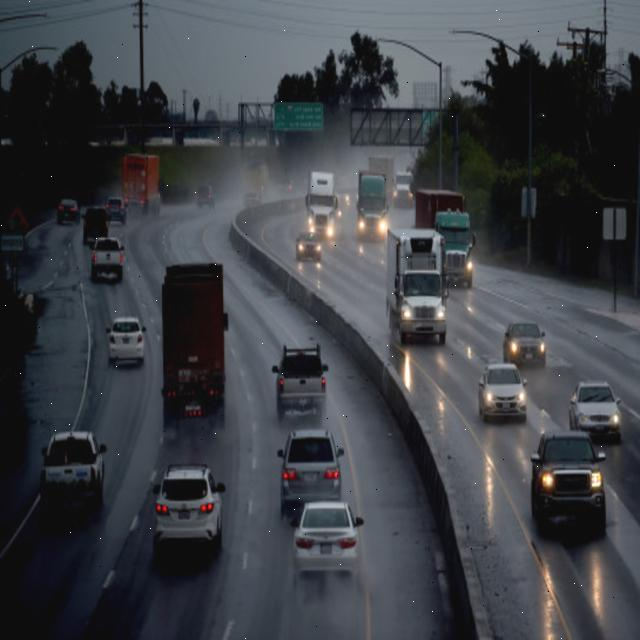Car: (530, 428, 608, 536), (151, 460, 225, 556), (40, 429, 107, 514), (292, 499, 363, 579), (277, 426, 344, 510), (272, 341, 330, 422), (568, 378, 624, 442), (478, 360, 528, 422), (503, 321, 548, 369), (107, 315, 145, 362), (90, 236, 126, 284), (82, 206, 110, 246), (295, 231, 323, 263), (57, 198, 79, 226), (105, 196, 127, 223), (196, 183, 216, 208), (336, 183, 354, 209), (243, 190, 262, 208), (278, 176, 294, 194), (344, 192, 351, 205)
Truck: (161, 262, 228, 416), (386, 225, 448, 344), (436, 208, 476, 288), (305, 168, 339, 240), (122, 153, 160, 215), (357, 170, 389, 241), (367, 156, 395, 206), (394, 170, 414, 208)
